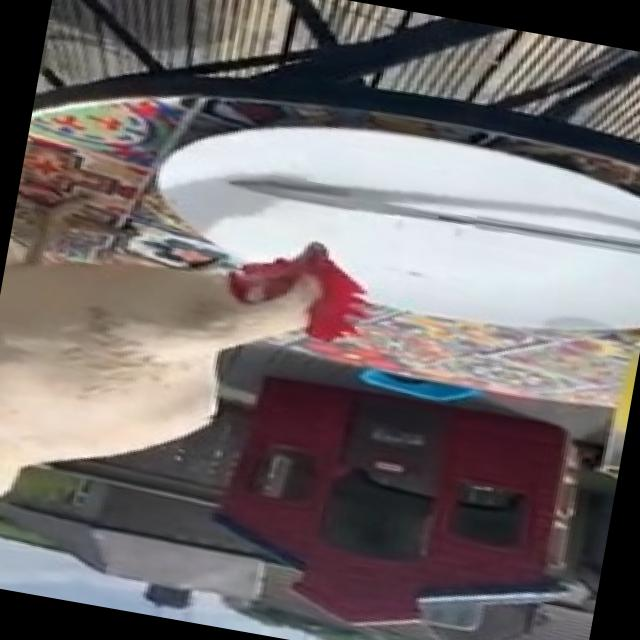pecking: (0, 175, 373, 603)
